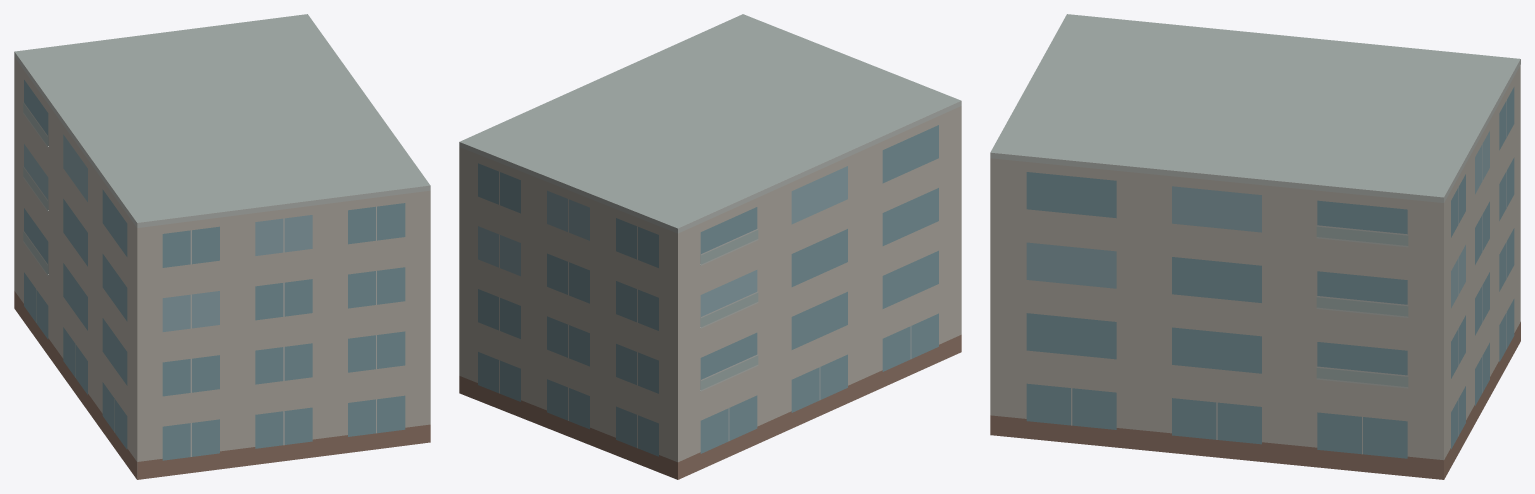
Rendered from residential-2af9d8a3-557a-4ca0-a793-1b397ebc1be5.glb.
3 renders of one model, left to right at view 1: azimuth 30°, elevation 25°; view 2: azimuth 150°, elevation 25°; view 3: azimuth 270°, elevation 25°, orthographic. The views are drawn at different scales.
Parts seen in each view (by area): view 1: residential-2af9d8a3-557a-4ca0-a793-1b397ebc1be5.tmp; view 2: residential-2af9d8a3-557a-4ca0-a793-1b397ebc1be5.tmp; view 3: residential-2af9d8a3-557a-4ca0-a793-1b397ebc1be5.tmp.
Part boxes in pixels (box(x1,y1,x2,y2)): residential-2af9d8a3-557a-4ca0-a793-1b397ebc1be5.tmp: box(14, 14, 430, 479); residential-2af9d8a3-557a-4ca0-a793-1b397ebc1be5.tmp: box(459, 14, 961, 479); residential-2af9d8a3-557a-4ca0-a793-1b397ebc1be5.tmp: box(990, 14, 1520, 479).
Bounding box in the file's own units: 17.01 × 12.2 × 20.78.
